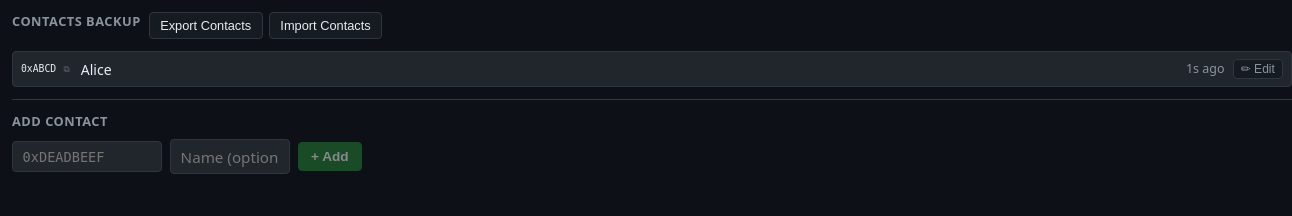
Test: PeerManager contact import/export › allows editing and persisting notes for a peer
The width and height of the screenshot is (1292, 216).
Click the button "✏ Edit" at point(1258, 69), box [1232, 59, 1283, 80]
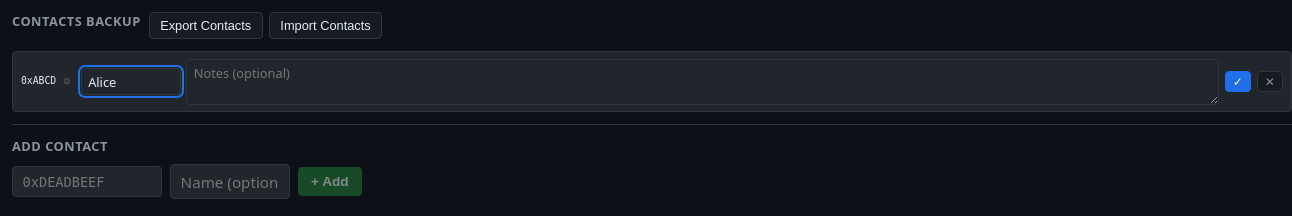
Type "Met at meetup" into the text box named "Peer notes" at point(703, 82), box [186, 59, 1219, 105]
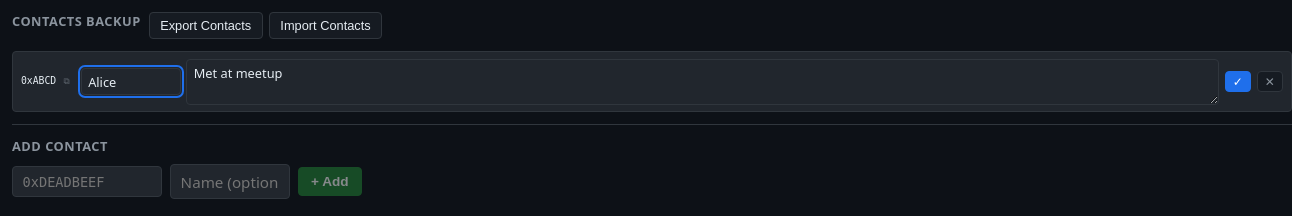
Click the button "✓" at point(1238, 82), box [1224, 71, 1251, 92]
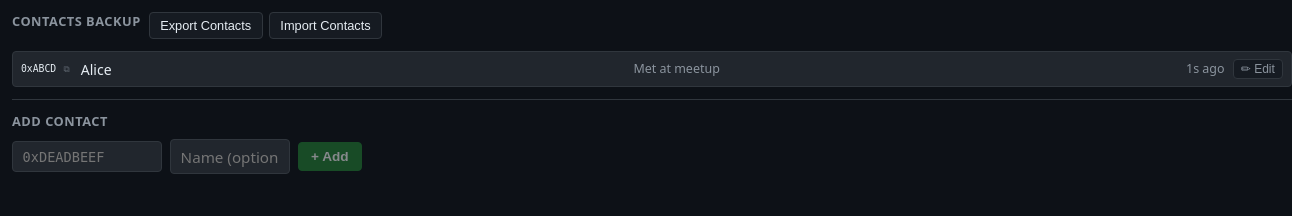
Expected: the text "Met at meetup" is shown, [633, 60, 720, 77]
